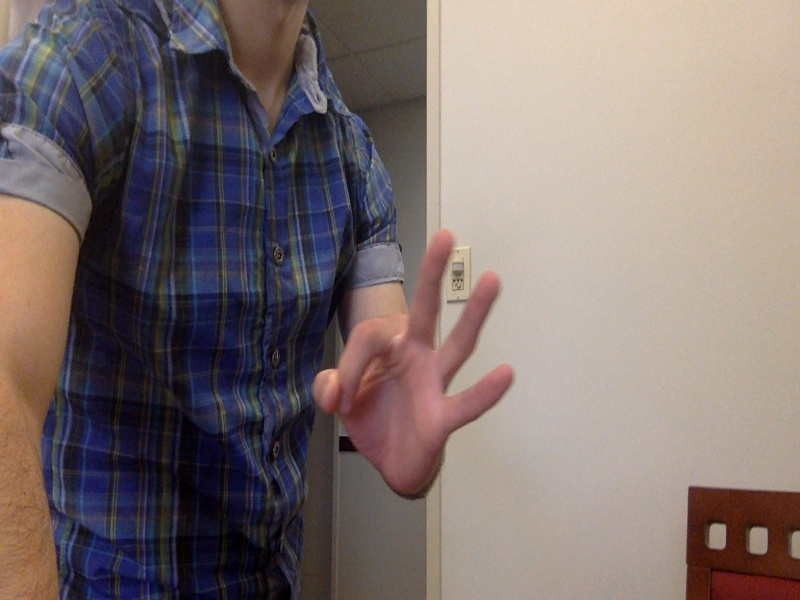3-hand: (314, 228, 520, 497)
